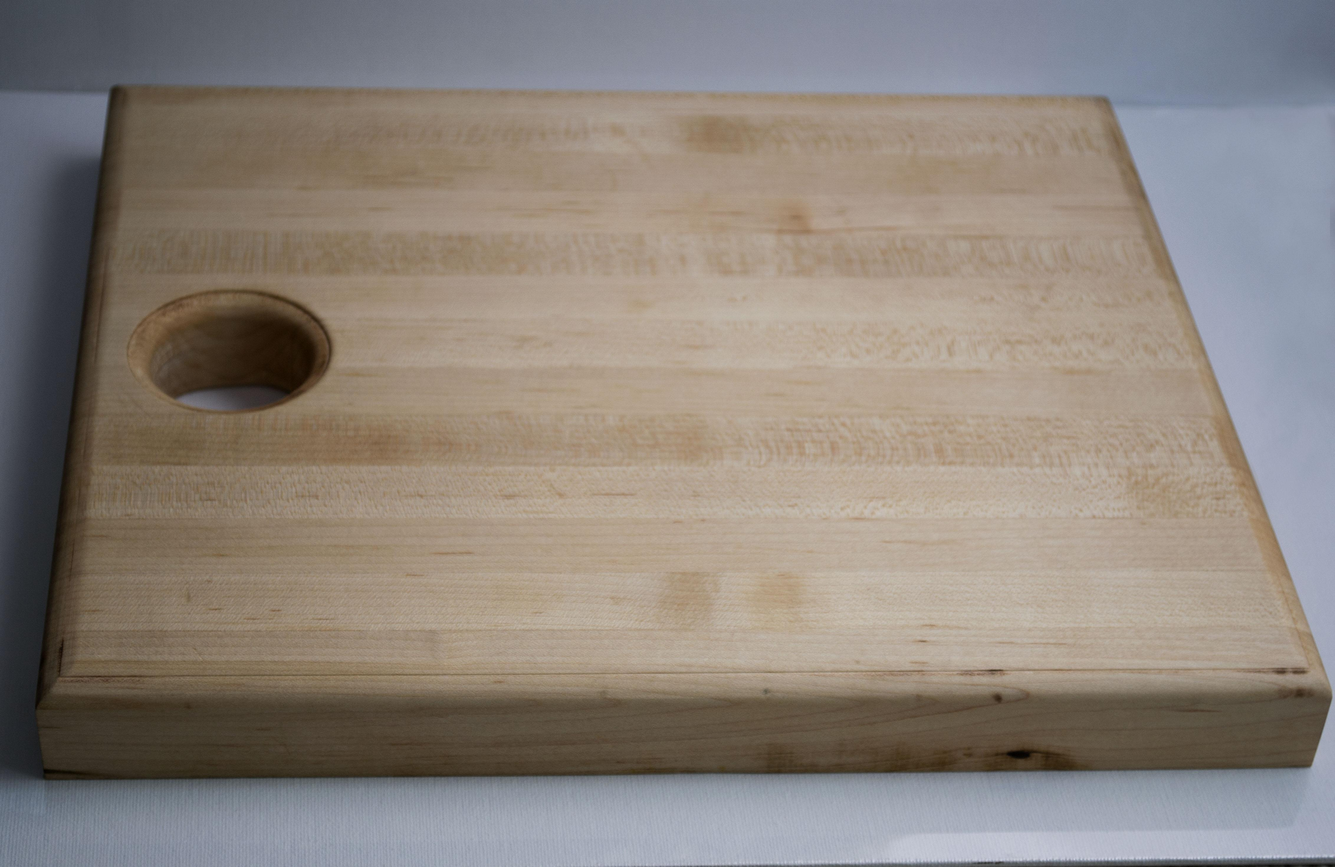gloved_hand: (21, 65, 1335, 789)
